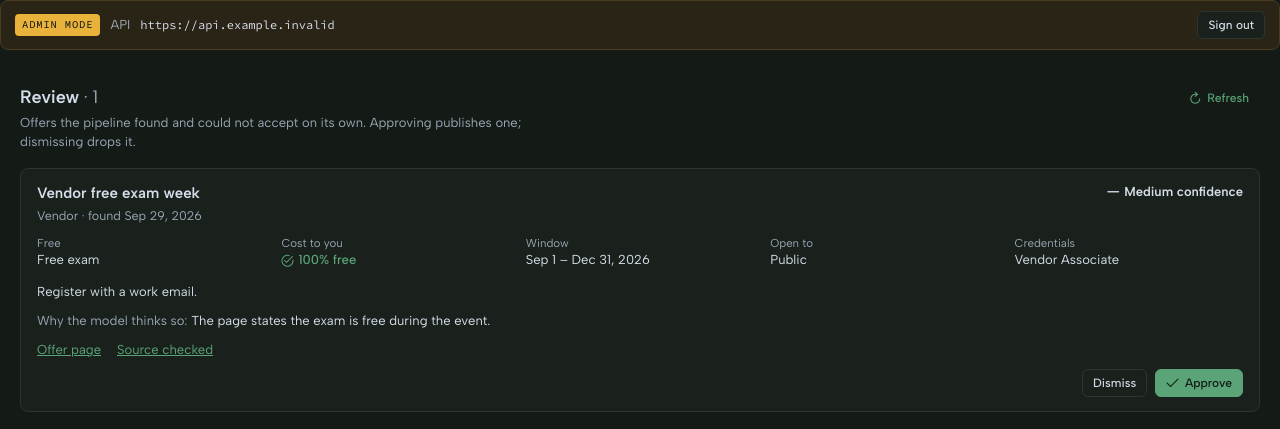
Test case: AdminPanel › approves a candidate and takes it off the list
Click the button "Approve".
click(1199, 383)  # box top-left (1155, 369), bottom-right (1243, 397)
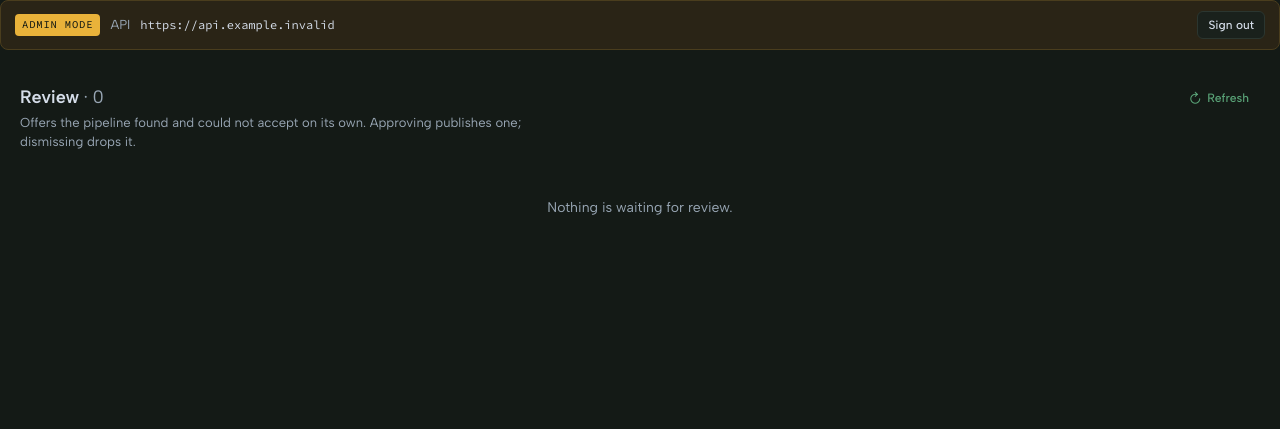
Expected: the list item is gone
